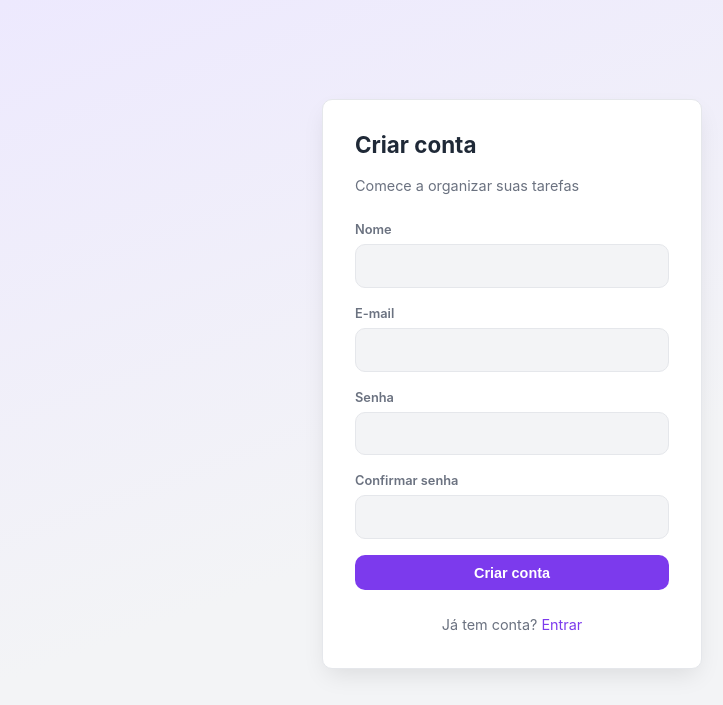
Test: RegisterPage › shows validation error for invalid email
Type "invalid-email" into the field with test id "register-email". click: (512, 350)
box: 355,328 -> 669,372
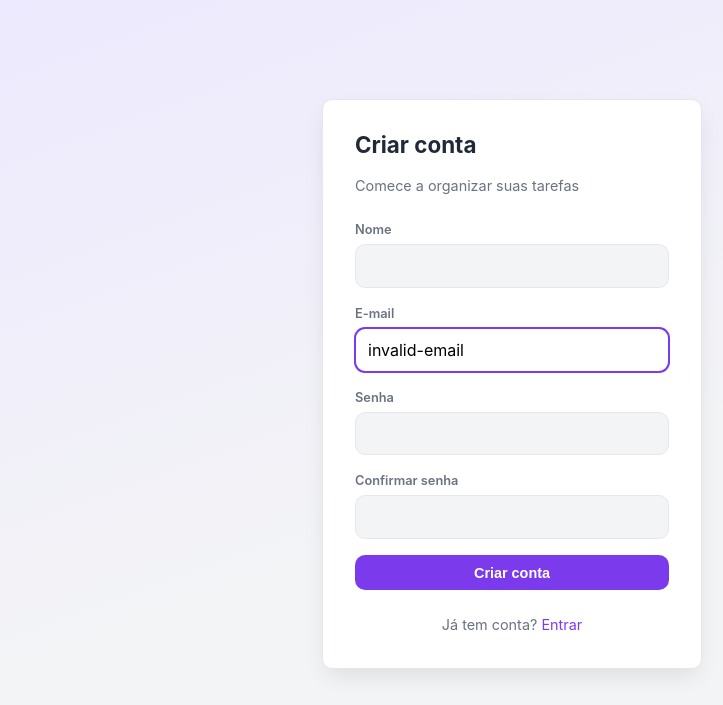
Press Tab
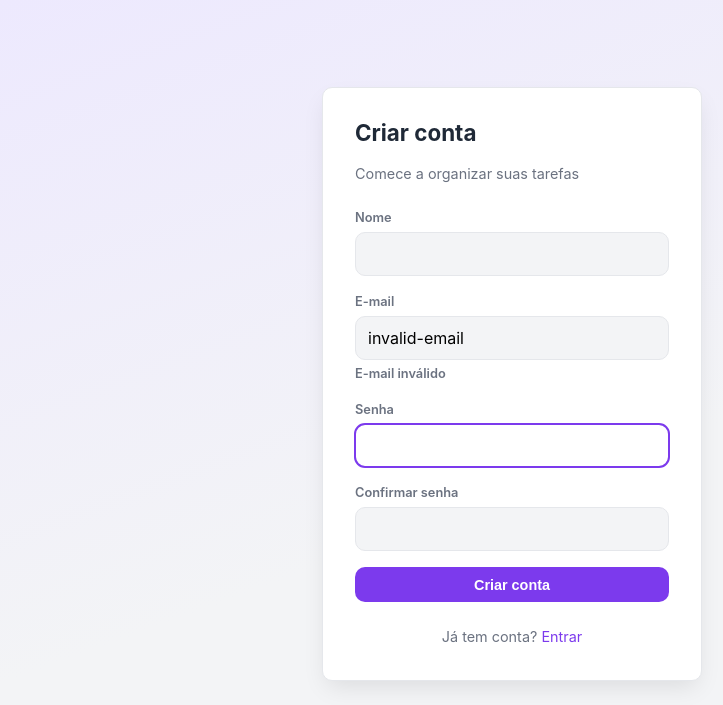
Check: the text "E-mail inválido" is shown, box 355,366 -> 446,381
